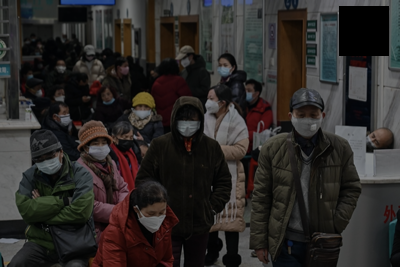mask_weared_incorrect: (101, 93, 116, 105)
with_mask: (292, 110, 324, 138), (138, 207, 168, 234), (34, 153, 63, 175), (177, 115, 203, 138), (87, 140, 111, 161), (116, 133, 135, 153), (366, 133, 382, 153), (205, 95, 220, 115), (134, 105, 151, 120), (58, 110, 72, 128), (218, 63, 232, 78), (245, 87, 255, 104), (180, 56, 191, 68), (56, 62, 66, 74), (55, 92, 65, 103), (121, 64, 130, 76), (79, 81, 89, 91), (34, 87, 43, 97), (27, 72, 35, 80), (86, 54, 94, 62)
